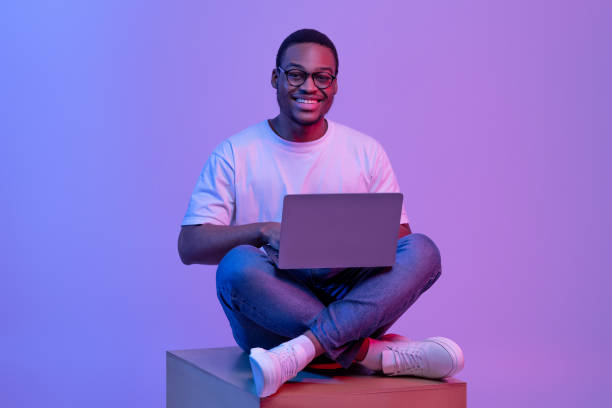without mask: (261, 33, 352, 127)
